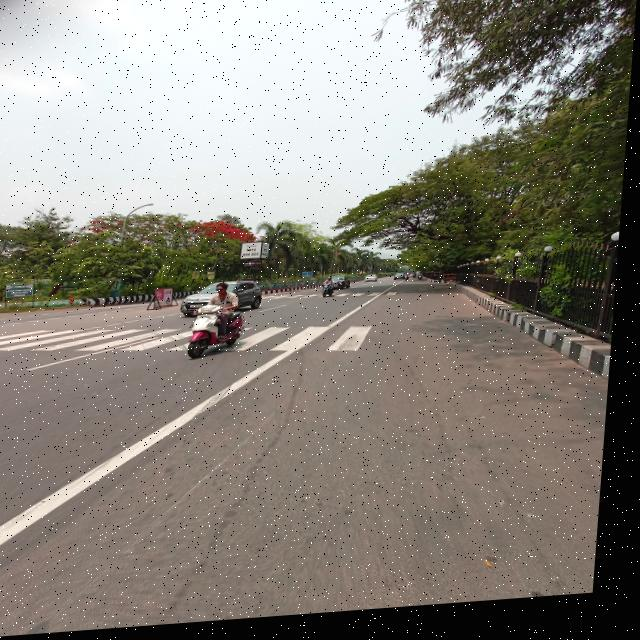bike: (182, 305, 262, 367), (324, 288, 346, 304), (369, 278, 384, 291)
